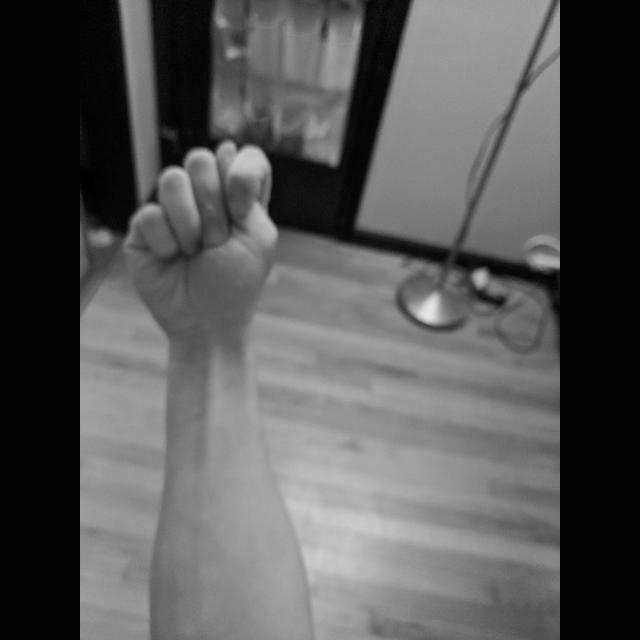T: (116, 136, 286, 347)
